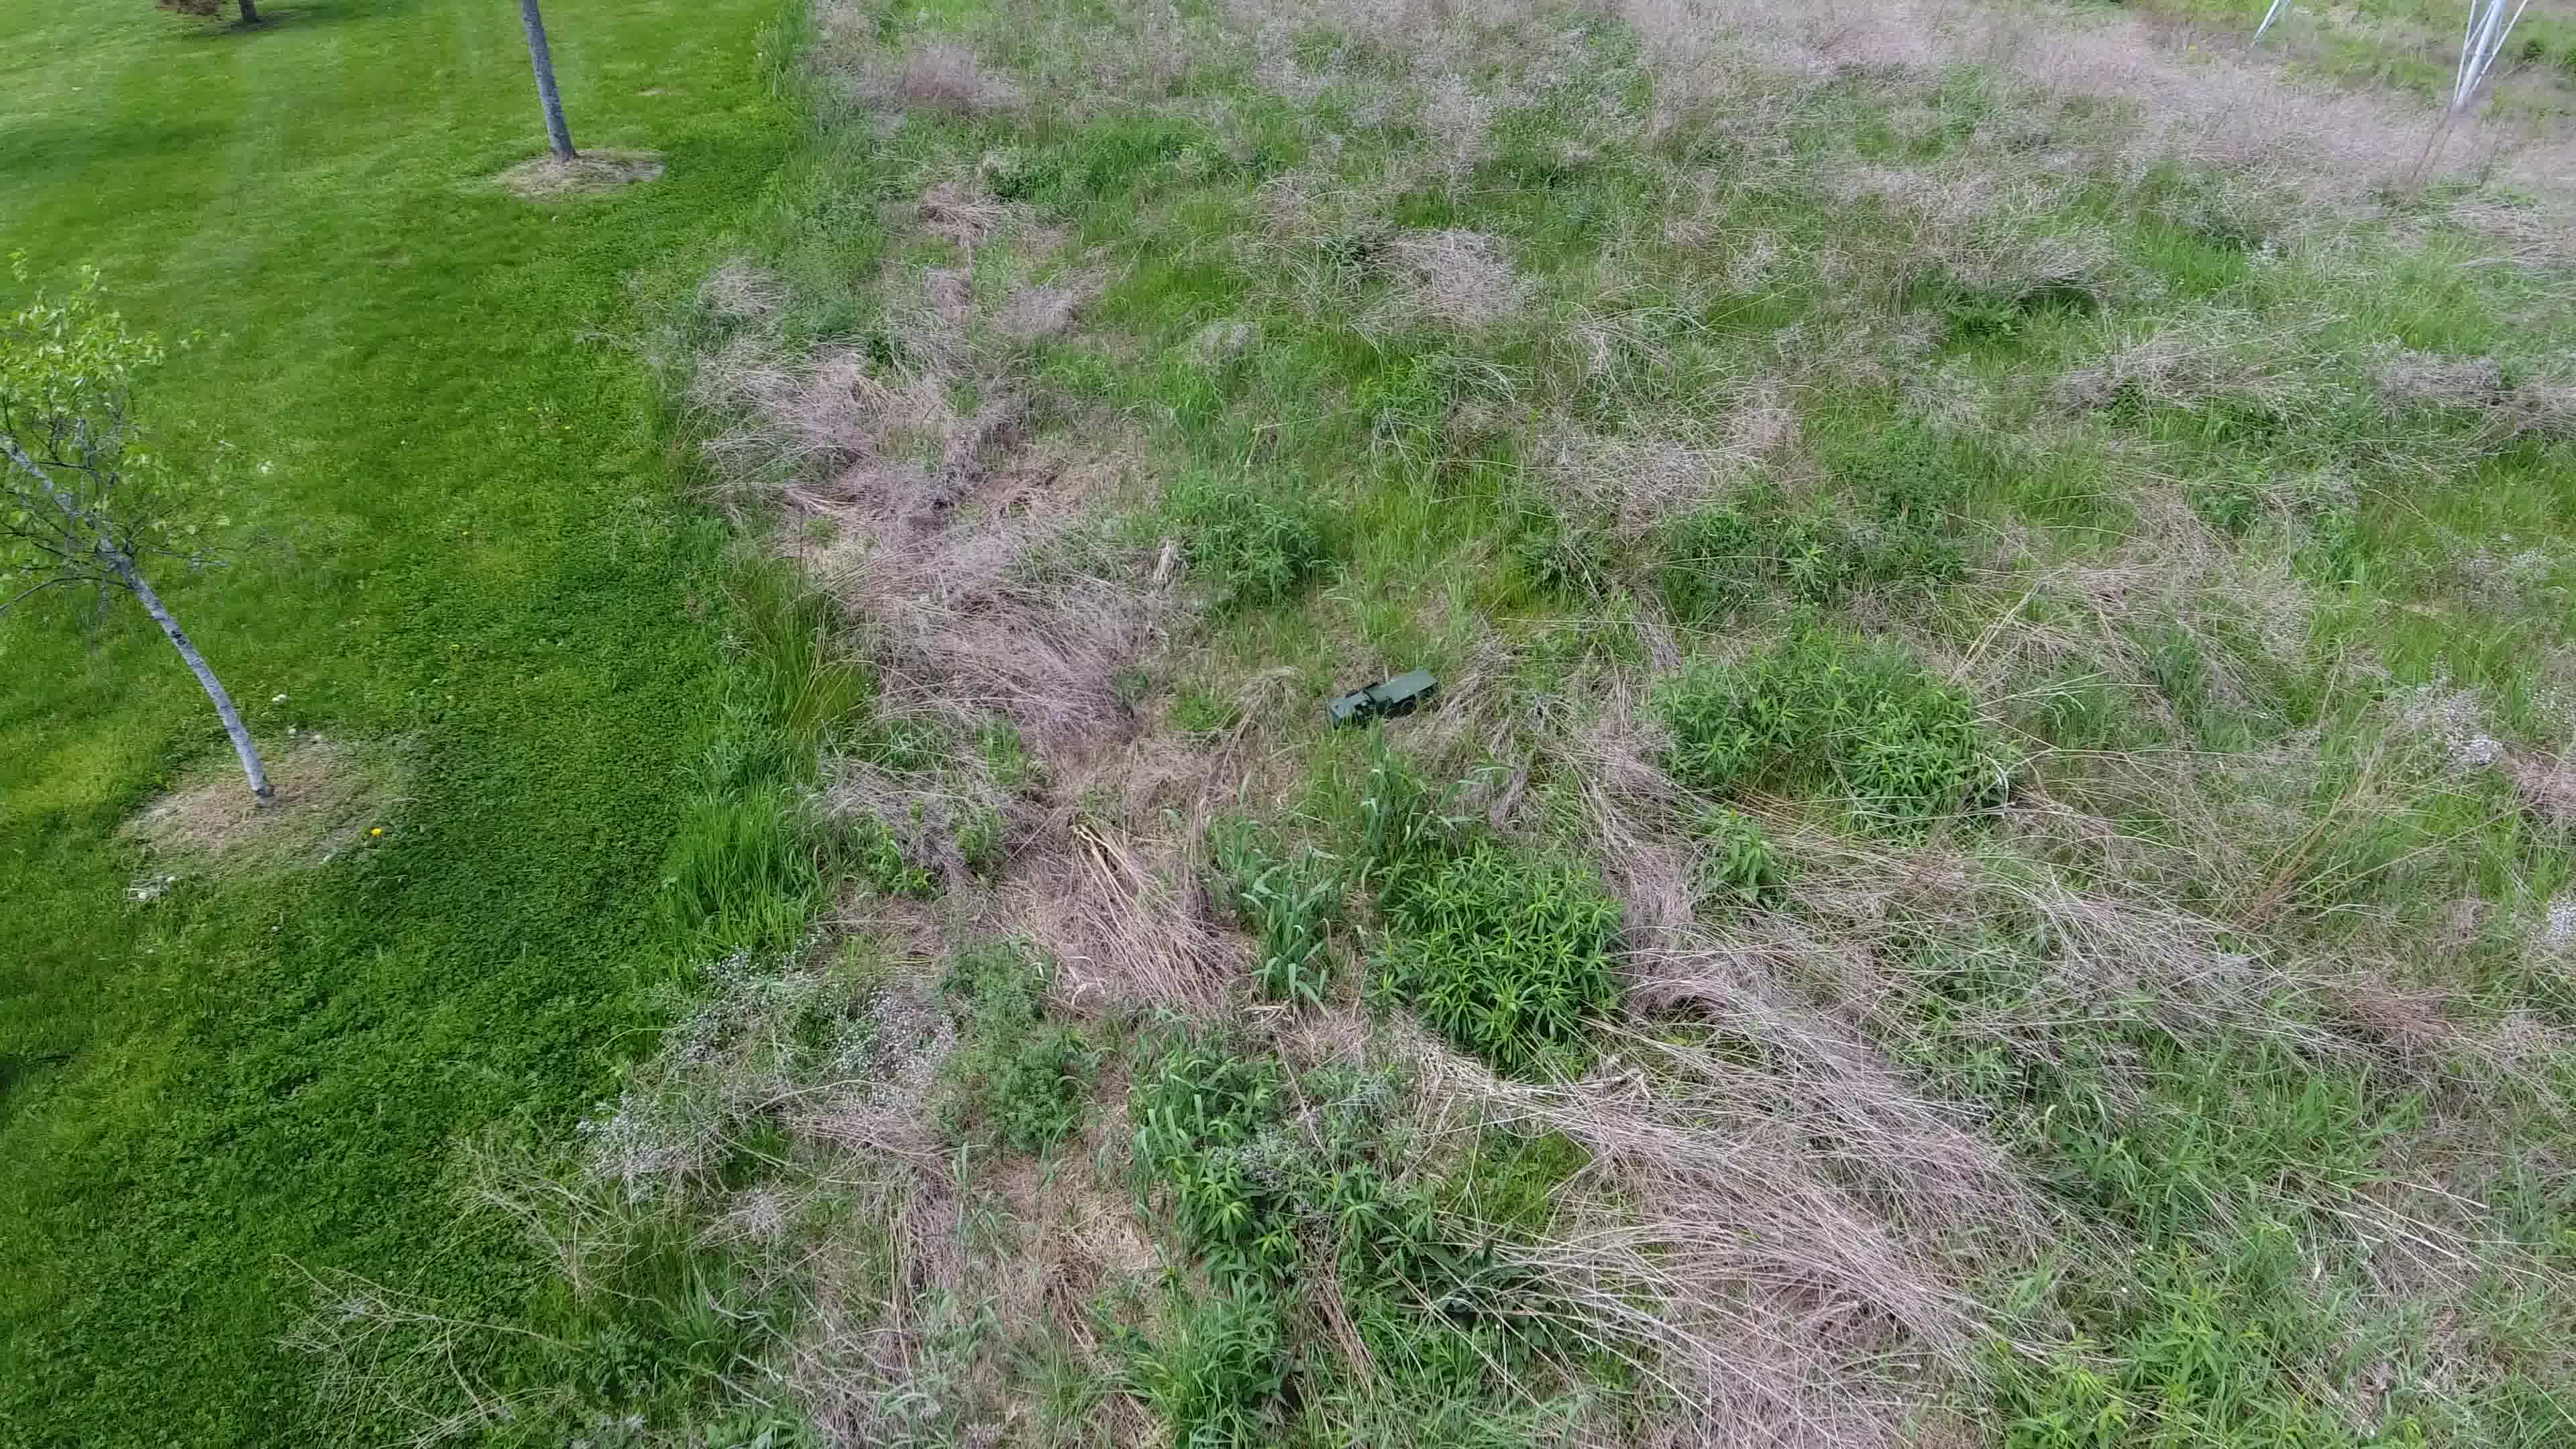transporter9: (1322, 655, 1442, 731)
